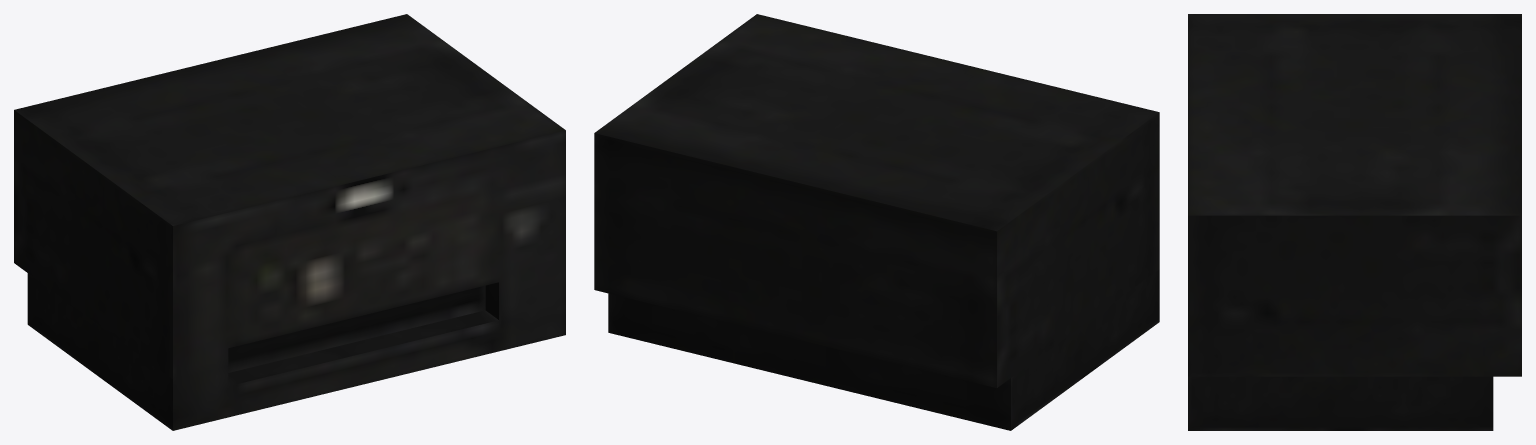
File: Printer01.obj
3 views of the same model, side by side, from view 1: azimuth 30°, elevation 25°; view 2: azimuth 150°, elevation 25°; view 3: azimuth 270°, elevation 25° (orthographic). The views are drawn at different scales.
Visible parts, largest first — view 1: Printer01; view 2: Printer01; view 3: Printer01.
Boxes of the visible parts, <box> form: Printer01: <box>14,14,565,430</box>; Printer01: <box>594,14,1159,430</box>; Printer01: <box>1188,14,1521,430</box>.
Bounding box in the file's own units: 0.625 × 0.3113 × 0.4375.
